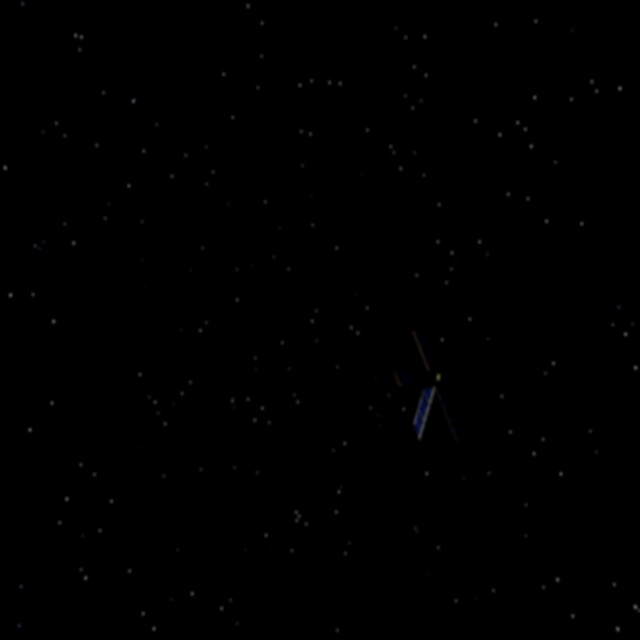satellite: (389, 322, 472, 454)
